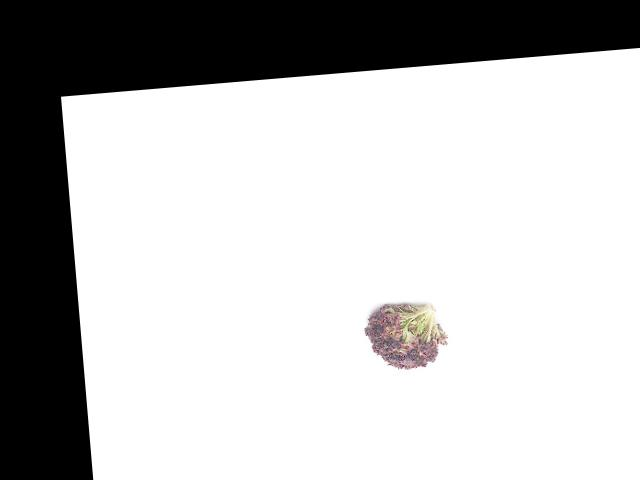lettuce: (358, 295, 445, 375)
